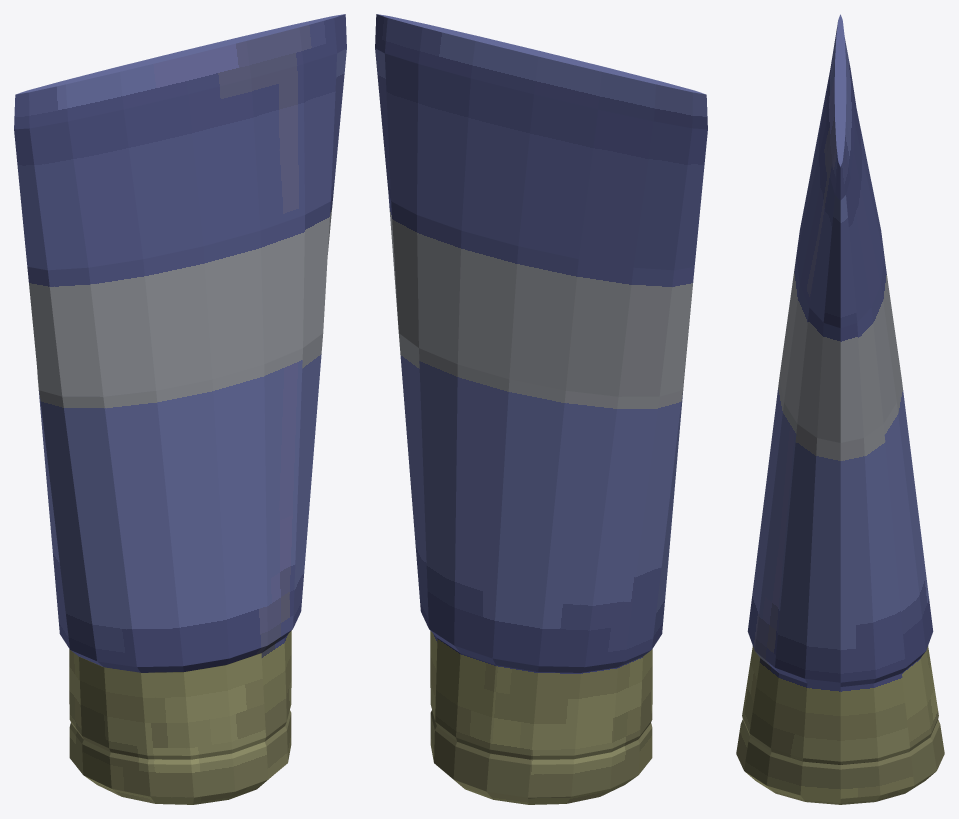
The model's file is Cream.fbx.
3 renders of one model, left to right at view 1: azimuth 30°, elevation 25°; view 2: azimuth 150°, elevation 25°; view 3: azimuth 270°, elevation 25°, orthographic. The views are drawn at different scales.
Parts seen in each view (by area): view 1: Cylinder.001; view 2: Cylinder.001; view 3: Cylinder.001.
Boxes of the visible parts, x1=… form: Cylinder.001: x1=14, y1=14, x2=346, y2=804; Cylinder.001: x1=375, y1=14, x2=707, y2=804; Cylinder.001: x1=736, y1=14, x2=944, y2=804.
Bounding box in the file's own units: 75.88 × 155 × 43.29.
Materials: 1 (1 with a texture image).
